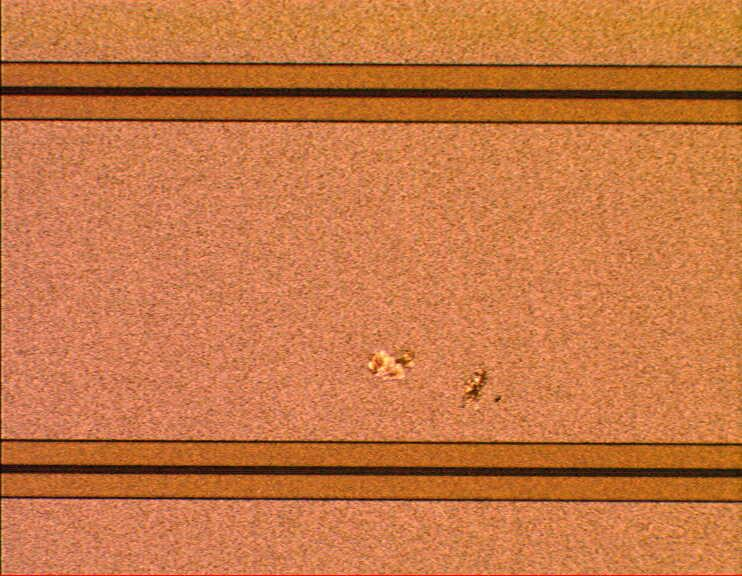SCRATCH: (343, 334, 536, 425)
